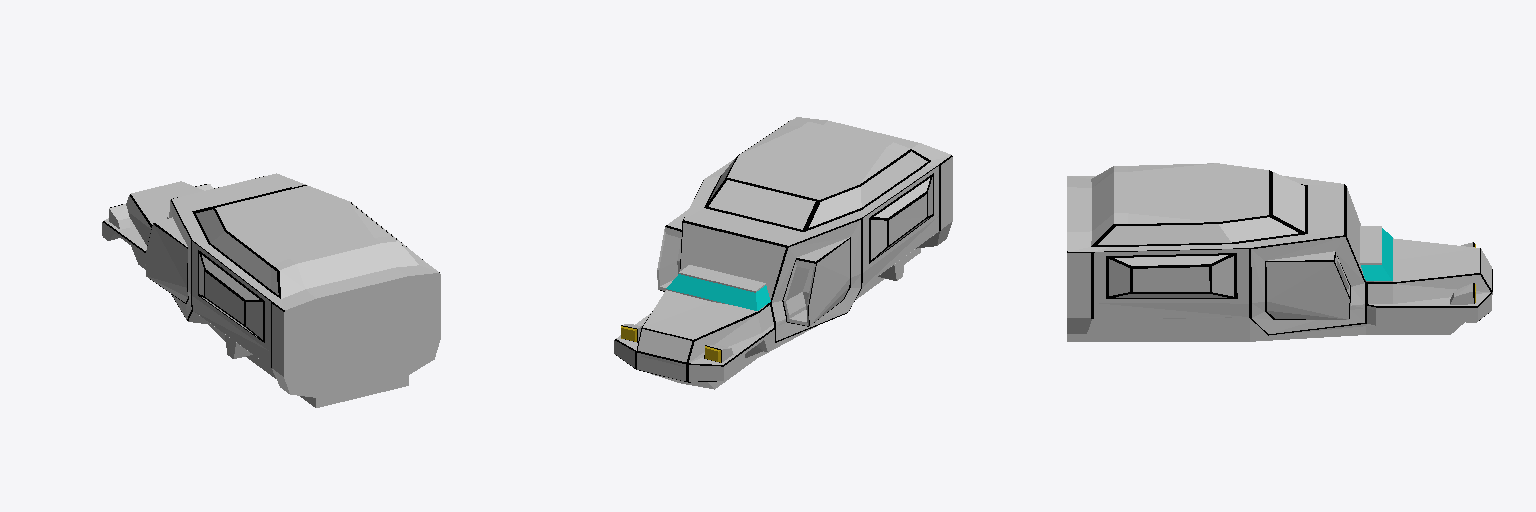
File: turtle_waggon.obj
3 renders of one model, left to right at view 1: azimuth 30°, elevation 25°; view 2: azimuth 150°, elevation 25°; view 3: azimuth 270°, elevation 25°, orthographic.
Parts seen in each view (by area): view 1: Cube.035_Cube.031; view 2: Cube.035_Cube.031; view 3: Cube.035_Cube.031.
Boxes of the visible parts, x1,y1,x2,y2 form: Cube.035_Cube.031: [102, 173, 440, 407]; Cube.035_Cube.031: [614, 117, 952, 389]; Cube.035_Cube.031: [1067, 163, 1492, 341].
Size of the model in its own units: 7.61 by 5.36 by 16.32.